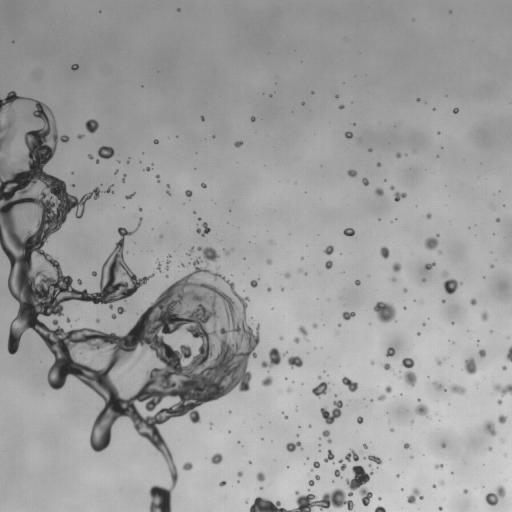droplet: (261, 347, 287, 368), (320, 400, 342, 424), (373, 301, 395, 322), (485, 485, 505, 505), (342, 376, 358, 392), (312, 381, 328, 397), (407, 488, 423, 503), (493, 383, 511, 396), (443, 279, 458, 294), (98, 146, 114, 159), (464, 357, 476, 374), (196, 222, 210, 236), (425, 234, 438, 249), (483, 421, 496, 436), (85, 119, 98, 133), (286, 441, 302, 452), (415, 403, 428, 416), (288, 356, 302, 367), (450, 384, 465, 394), (211, 453, 222, 464), (324, 450, 334, 462), (342, 311, 355, 320), (261, 376, 272, 386), (394, 192, 406, 201), (380, 246, 389, 258), (324, 245, 333, 255), (343, 228, 354, 236), (392, 262, 401, 271), (386, 347, 395, 356), (311, 461, 320, 470), (256, 472, 265, 481), (347, 169, 357, 177), (182, 462, 192, 470), (481, 311, 488, 321), (105, 185, 113, 193), (250, 279, 258, 287), (478, 349, 486, 357), (498, 415, 506, 423), (374, 188, 383, 195), (325, 260, 332, 269), (382, 363, 391, 370), (433, 382, 442, 389), (425, 263, 435, 269), (345, 131, 353, 138), (117, 306, 124, 314), (234, 141, 243, 147), (185, 190, 192, 197), (377, 394, 385, 400), (434, 463, 443, 468), (71, 64, 78, 70), (362, 178, 368, 185), (293, 337, 300, 343), (385, 386, 391, 393), (357, 416, 363, 423), (219, 480, 226, 486), (470, 299, 476, 305), (442, 271, 447, 277), (284, 273, 290, 278), (237, 471, 242, 477), (144, 167, 151, 171), (453, 108, 458, 113), (396, 152, 401, 157), (426, 213, 431, 218), (355, 280, 360, 285), (111, 313, 116, 318), (312, 323, 317, 328), (436, 360, 441, 365), (497, 399, 502, 404), (404, 443, 409, 448), (77, 134, 83, 138), (339, 105, 344, 109), (251, 116, 255, 121), (88, 154, 92, 159), (155, 175, 159, 180), (201, 183, 205, 188), (224, 250, 228, 255), (267, 259, 271, 264), (92, 271, 96, 276), (77, 279, 81, 284), (154, 139, 158, 143), (166, 190, 170, 194), (496, 218, 500, 222), (267, 287, 271, 291), (403, 288, 407, 292), (502, 366, 506, 370), (363, 444, 367, 448), (463, 489, 467, 493), (438, 506, 442, 510), (180, 263, 185, 266), (201, 116, 204, 120), (377, 162, 380, 166), (167, 184, 170, 188), (438, 250, 441, 254), (392, 278, 396, 281), (66, 318, 69, 322), (96, 319, 100, 322), (370, 361, 374, 364), (287, 388, 290, 392), (284, 415, 287, 419), (488, 447, 492, 450), (440, 481, 444, 484), (96, 159, 99, 162), (126, 160, 129, 163), (115, 170, 118, 173), (390, 186, 393, 189), (298, 269, 301, 272), (133, 362, 136, 365), (390, 428, 393, 431), (442, 444, 445, 447), (433, 484, 436, 487), (245, 499, 248, 502), (417, 98, 419, 101), (369, 148, 371, 151), (71, 184, 74, 186), (139, 207, 141, 210), (198, 217, 200, 220), (159, 235, 162, 237), (490, 265, 493, 267), (165, 275, 168, 277), (422, 279, 425, 281), (442, 300, 445, 302), (422, 323, 425, 325), (417, 332, 419, 335), (318, 376, 320, 379), (417, 399, 420, 401), (396, 474, 399, 476), (260, 486, 262, 489), (177, 9, 179, 11), (336, 95, 338, 97), (302, 102, 304, 104), (282, 288, 284, 290), (338, 324, 340, 326), (280, 337, 282, 339), (411, 421, 413, 423), (309, 425, 311, 427), (249, 461, 251, 463), (368, 464, 370, 466), (378, 498, 380, 500)
ligament: (0, 91, 249, 511), (249, 465, 374, 511), (334, 449, 358, 478), (0, 115, 16, 149), (400, 357, 417, 386), (366, 455, 382, 466), (322, 429, 331, 443), (308, 475, 319, 486), (298, 326, 307, 339), (506, 346, 511, 362), (165, 255, 170, 269), (187, 247, 193, 257), (374, 506, 386, 511), (125, 193, 134, 199), (157, 260, 161, 271), (122, 174, 126, 182)
